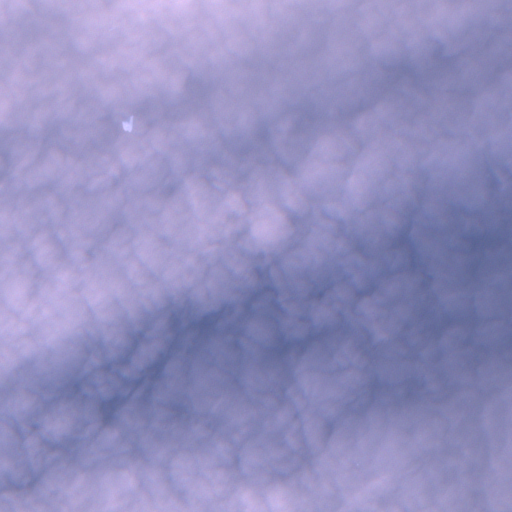Iceberg: (122, 116, 132, 131)
